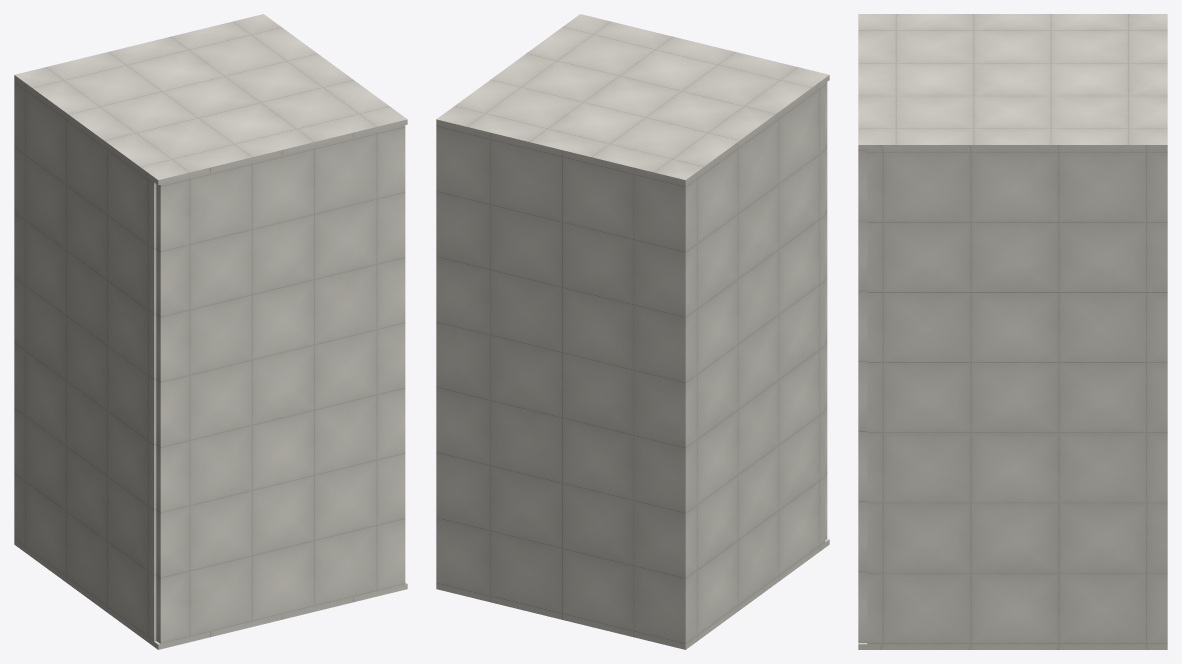
The model's file is power12_life_support_rack.glb.
3 renders of one model, left to right at view 1: azimuth 30°, elevation 25°; view 2: azimuth 150°, elevation 25°; view 3: azimuth 270°, elevation 25°, orthographic. The views are drawn at different scales.
Parts seen in each view (by area): view 1: door, rack_shell; view 2: rack_shell, door; view 3: rack_shell, door.
Part boxes in pixels (x1=…): door: x1=156, y1=125, x2=405, y2=643; rack_shell: x1=14, y1=14, x2=407, y2=649; rack_shell: x1=436, y1=14, x2=829, y2=649; door: x1=825, y1=82, x2=827, y2=539; rack_shell: x1=858, y1=14, x2=1167, y2=649; door: x1=858, y1=150, x2=867, y2=642.
Size of the model in its own units: 1 by 1.8 by 1.
5 materials, 4 textured.
